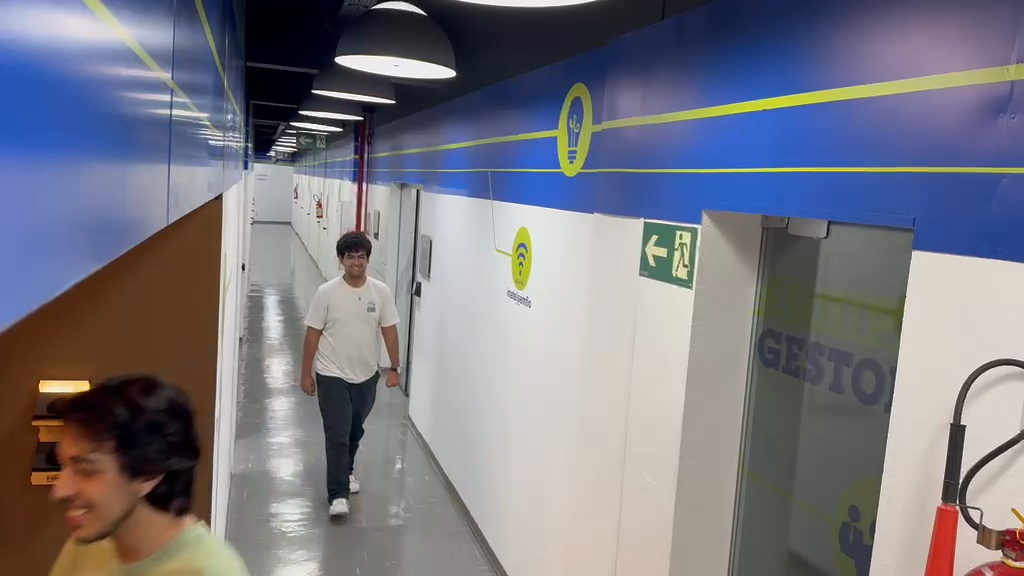person: (45, 375, 252, 574), (300, 232, 401, 520)
